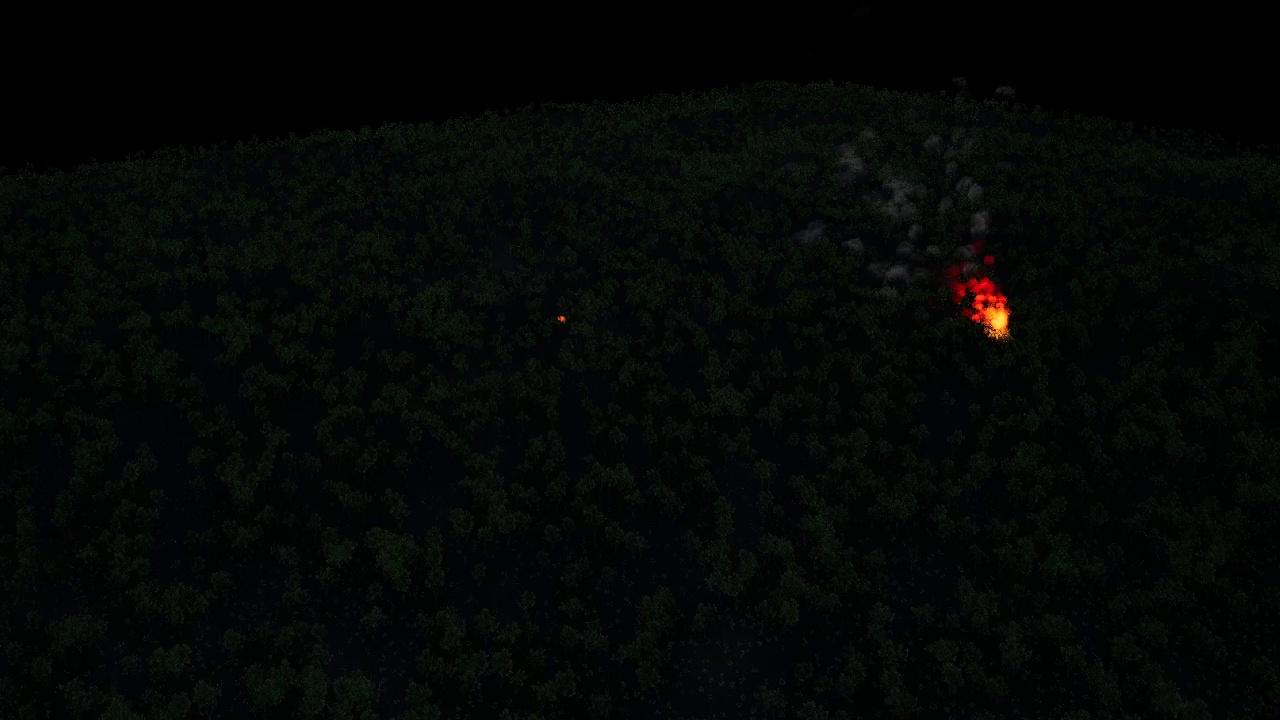fire: (959, 279, 1011, 338), (557, 316, 567, 323)
smoke: (797, 130, 1000, 305)
